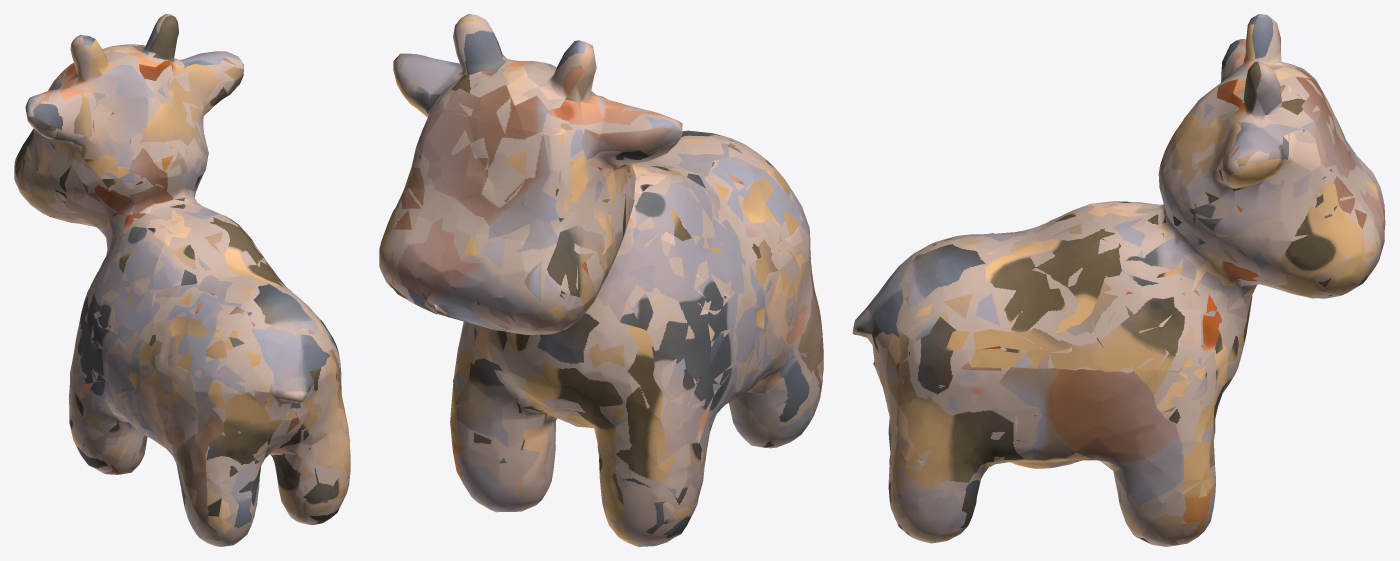
3 renders of one model, left to right at view 1: azimuth 30°, elevation 25°; view 2: azimuth 150°, elevation 25°; view 3: azimuth 270°, elevation 25°, orthographic. The views are drawn at different scales.
Visible parts, largest first — view 1: pMesh1; view 2: pMesh1; view 3: pMesh1.
Part boxes in pixels (box(x1,y1,x2,y2)): pMesh1: box(14, 14, 350, 546); pMesh1: box(379, 14, 823, 546); pMesh1: box(852, 14, 1385, 546).
Bounding box in the file's own units: 0.9448 × 1.69 × 1.72.
Materials: 1 (1 with a texture image).
